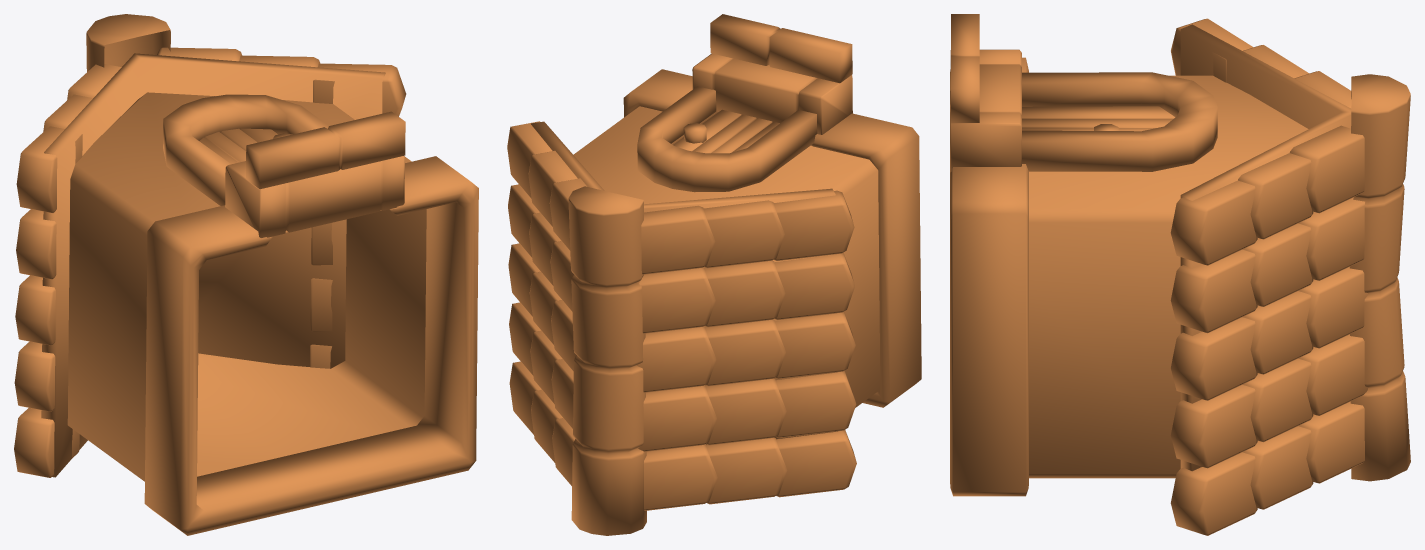
Rendered from house.fbx.
The picture shows the model from 3 angles, left to right: view 1: azimuth 30°, elevation 25°; view 2: azimuth 150°, elevation 25°; view 3: azimuth 270°, elevation 25°; orthographic projection. The views are drawn at different scales.
Parts seen in each view (by area): view 1: house; view 2: house; view 3: house.
Boxes of the visible parts, x1=… form: house: x1=14, y1=14, x2=478, y2=535; house: x1=507, y1=14, x2=921, y2=535; house: x1=950, y1=14, x2=1410, y2=535.
Bounding box in the file's own units: 107 × 105 × 106.
